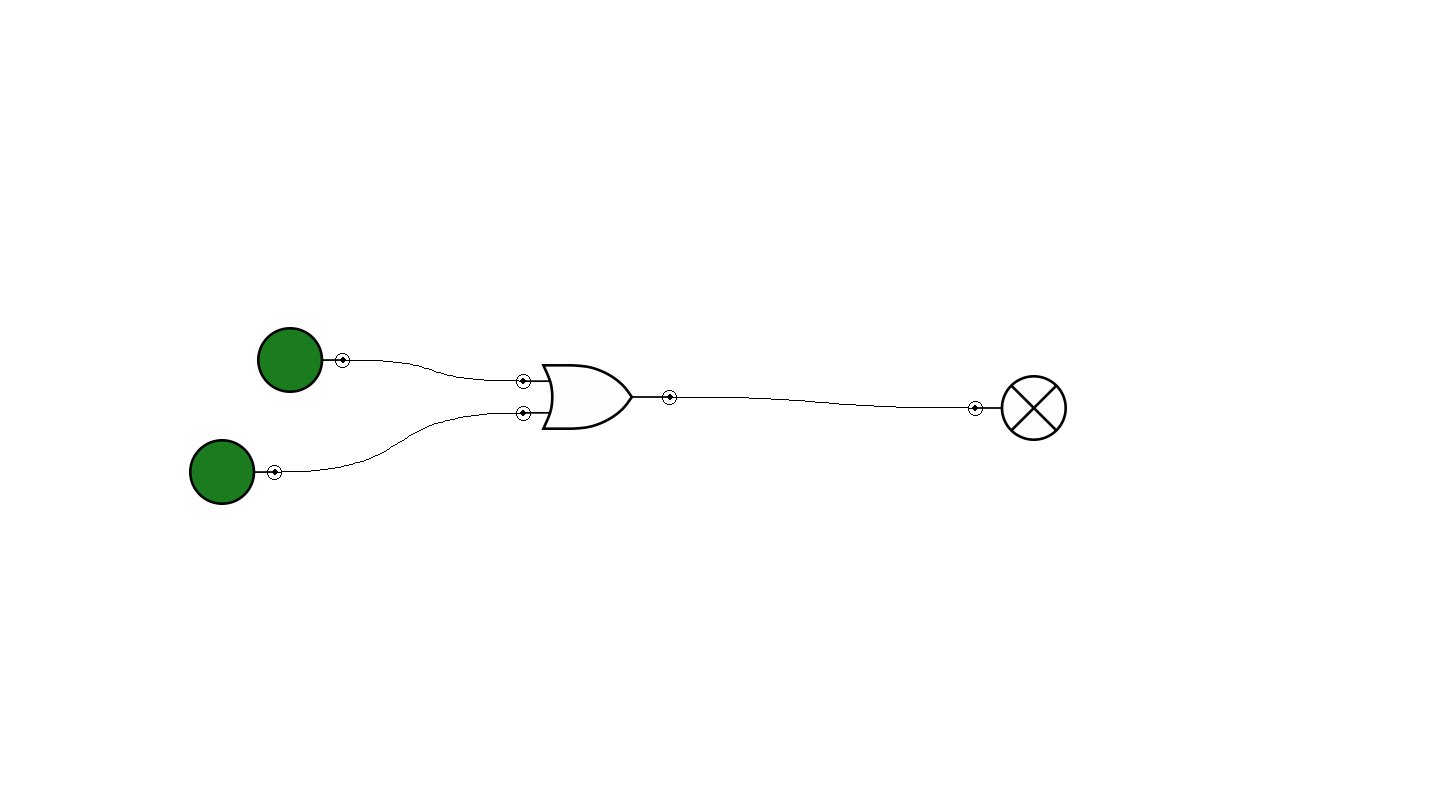bulb: (968, 375, 1067, 441)
or: (516, 364, 677, 430)
switch_True: (189, 439, 282, 505), (257, 327, 350, 393)
